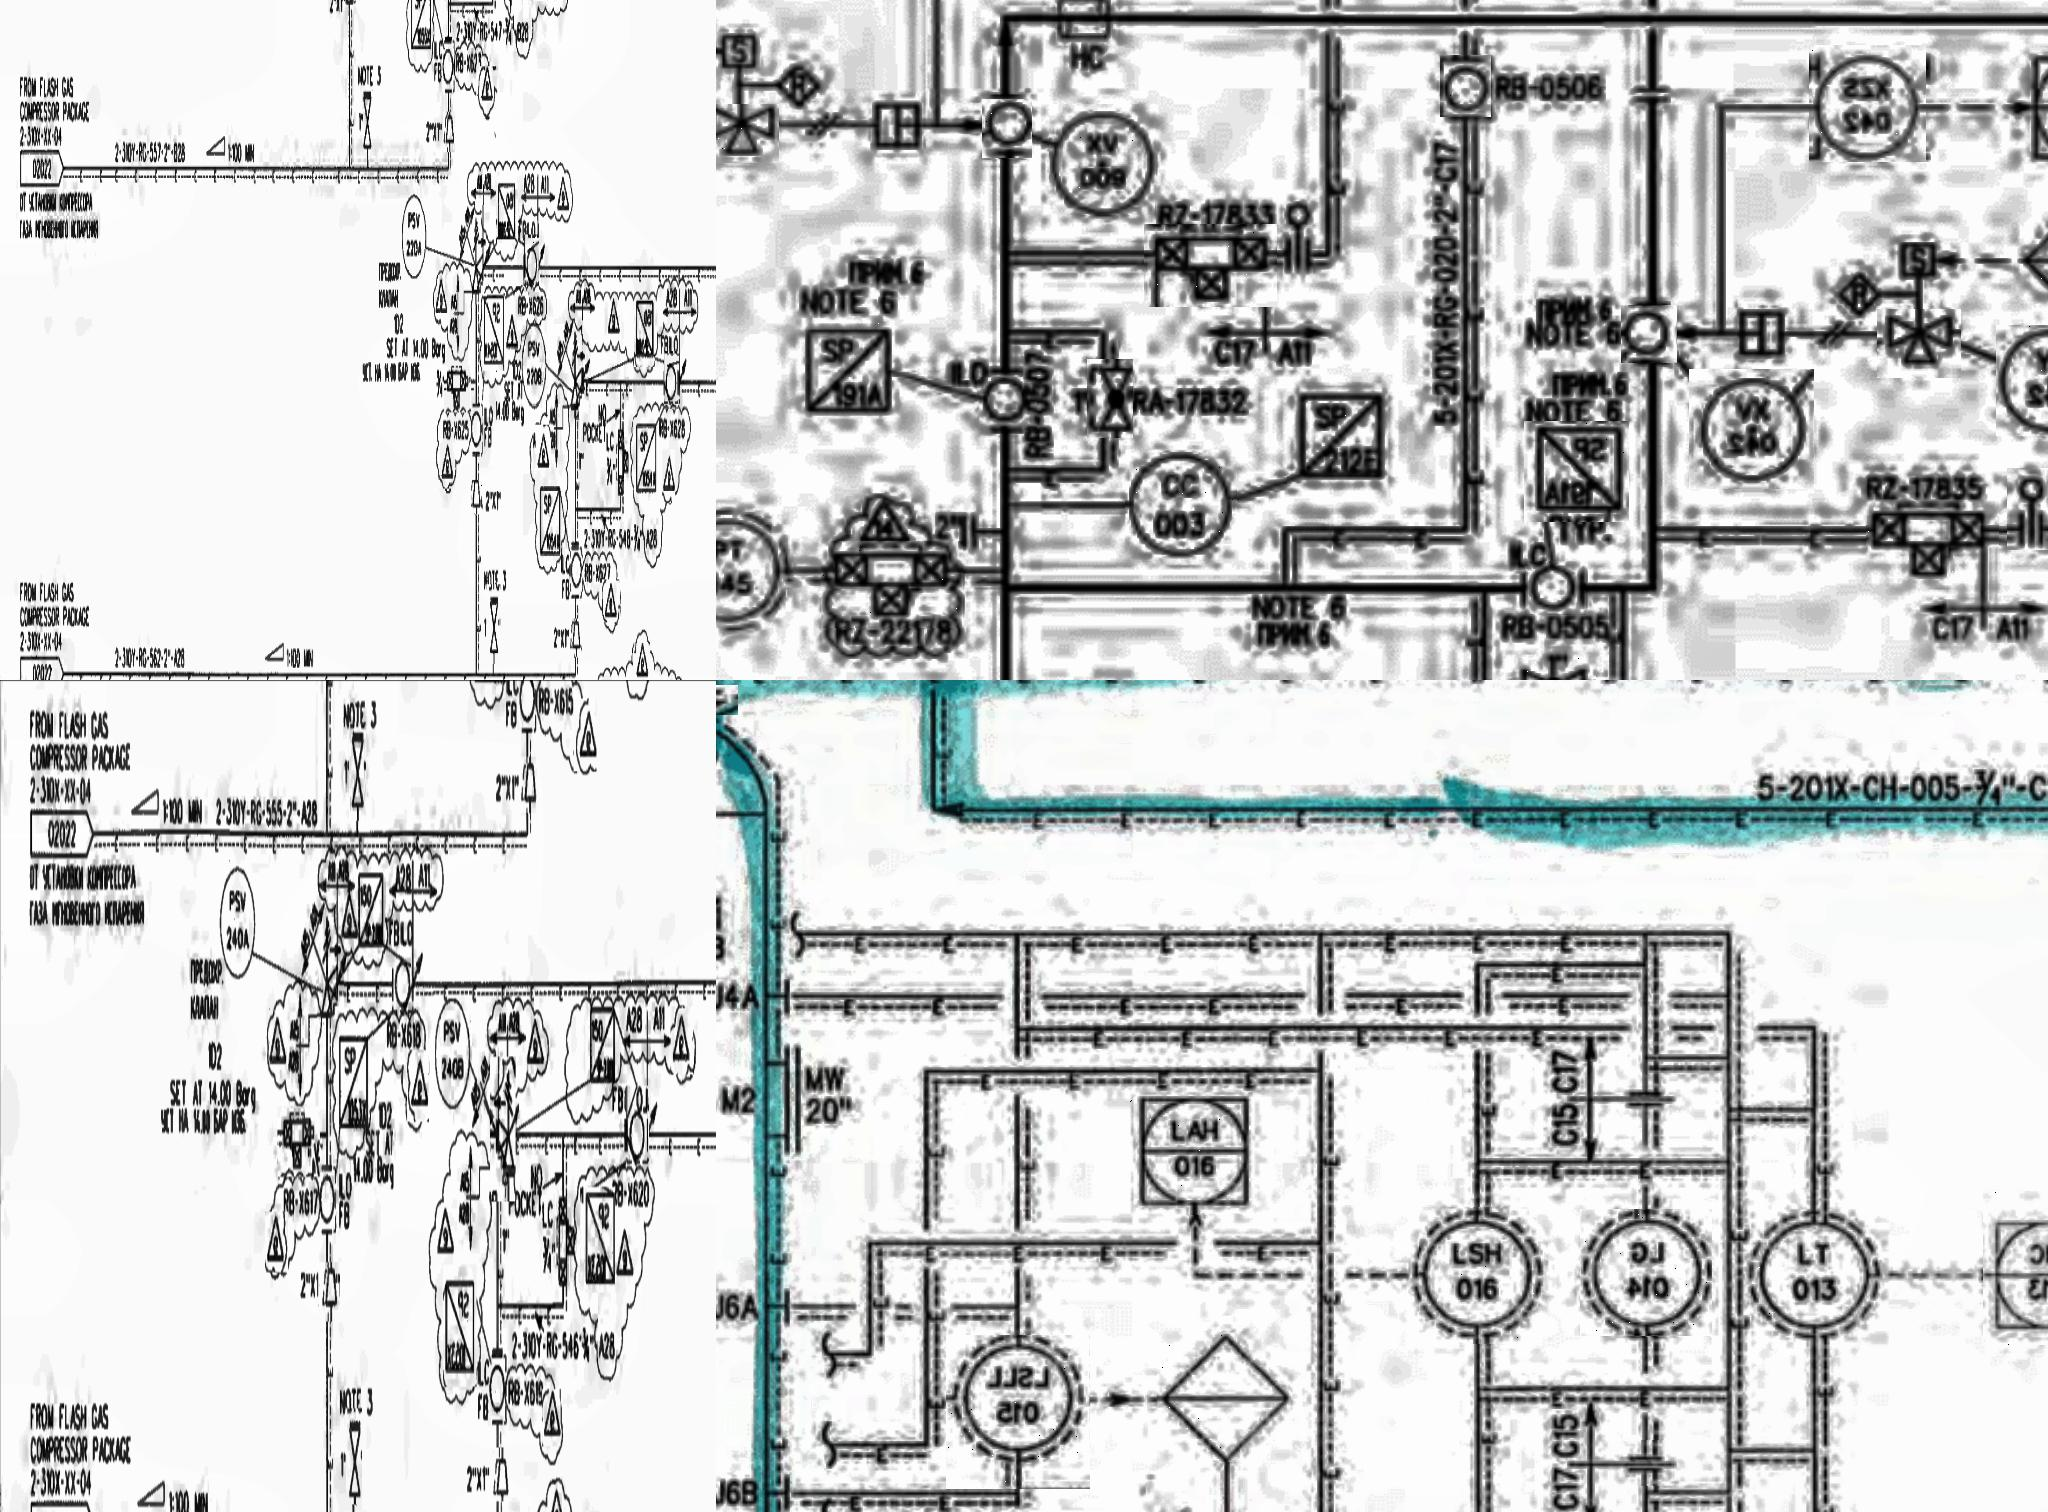2 WAY VALVE: (822, 542, 964, 630), (1867, 494, 1999, 583), (1145, 224, 1278, 307), (444, 366, 471, 412), (615, 417, 630, 502)
3 WAY GENERAL VALVE: (1876, 310, 1961, 380), (716, 103, 781, 164)
ANGLE RELIEF VALVE: (471, 205, 487, 305), (571, 321, 587, 420)
BLIND SPADE OPEN: (1277, 199, 1325, 280), (2007, 469, 2048, 552)
CONCENTRIC REDUCER: (490, 766, 509, 820), (442, 113, 455, 154), (571, 620, 582, 660), (471, 482, 482, 517)
DCS ACCESSIBLE: (1121, 1086, 1264, 1215), (1984, 1191, 2048, 1345), (2018, 41, 2048, 176)
DUPLEX RECEPTACLE: (1051, 0, 1126, 52)
END FLANGED: (1628, 68, 1682, 114), (1631, 1440, 1674, 1487), (716, 685, 738, 715)
FIELD INSTRUMENT: (946, 1336, 1091, 1491), (1752, 1210, 1886, 1340), (1420, 1207, 1546, 1345), (1581, 1210, 1714, 1339), (1690, 370, 1816, 491), (1809, 45, 1927, 162), (716, 491, 801, 642), (1126, 450, 1239, 561), (1049, 105, 1158, 216), (1997, 326, 2048, 437), (1622, 305, 1679, 362), (1526, 561, 1587, 615), (1441, 56, 1491, 118), (978, 378, 1037, 431), (983, 100, 1034, 159), (399, 189, 426, 285), (520, 321, 547, 407), (487, 680, 507, 739), (469, 401, 483, 456), (665, 355, 679, 409), (442, 40, 453, 89), (569, 552, 582, 593)
GATE VALVE: (345, 728, 363, 825), (487, 583, 501, 665), (361, 86, 374, 159)
GLOBE VALVE: (1088, 359, 1134, 440), (1514, 658, 1596, 680)
HARDWIRED INTERLOCK FIELD: (1833, 262, 1902, 318), (774, 62, 825, 110), (525, 235, 539, 294)
HARDWIRED INTERLOCK PRIMARY.: (1158, 1332, 1301, 1463), (2019, 207, 2048, 321)
REVISION TRIANGLE: (862, 493, 916, 539), (475, 68, 498, 119), (604, 294, 625, 348), (533, 425, 552, 479), (542, 709, 560, 768), (504, 312, 520, 362), (603, 580, 620, 625), (439, 444, 455, 490), (634, 630, 649, 680), (663, 450, 676, 504), (437, 277, 448, 323)
SPECIAL PIPING ITEM: (790, 315, 906, 425), (1286, 383, 1399, 487), (1523, 421, 1628, 525), (633, 418, 661, 499), (539, 477, 563, 566), (482, 294, 504, 374), (496, 176, 518, 243), (634, 300, 655, 369), (442, 680, 475, 708)
SPEED FLOW METER: (1892, 227, 1961, 289), (716, 19, 770, 79)
